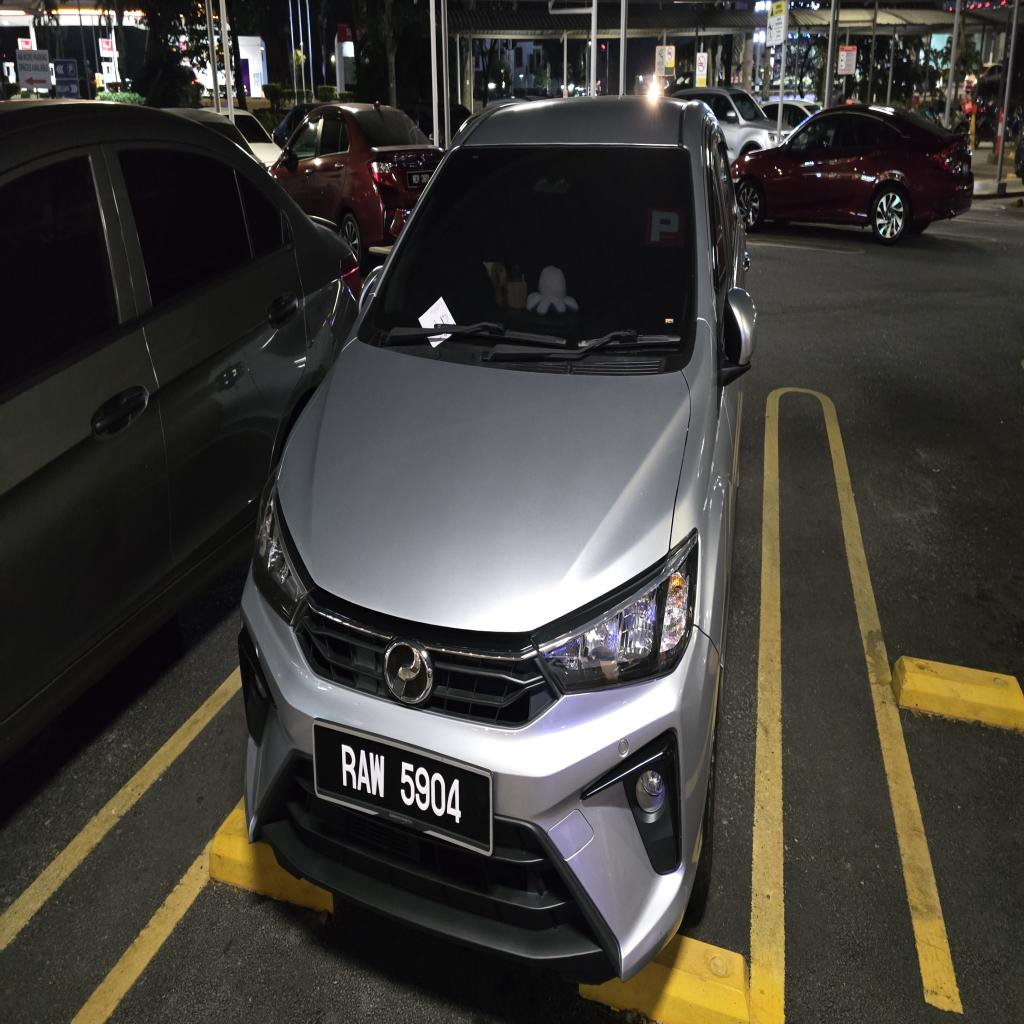car: (240, 96, 754, 980)
car plate: (313, 720, 492, 854)
